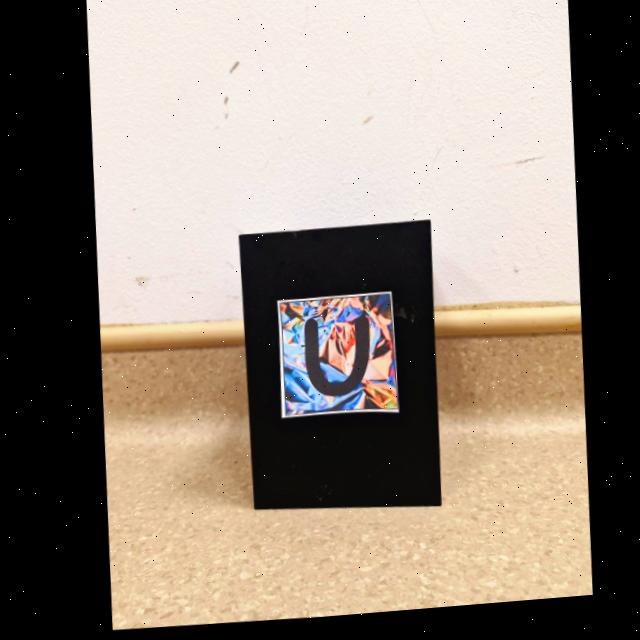U: (299, 321, 364, 400)
